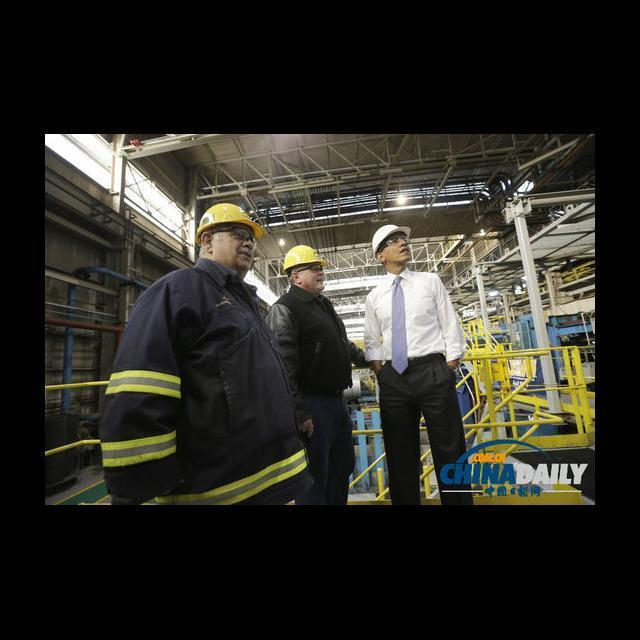Capacete: (196, 203, 265, 243), (283, 245, 327, 272), (372, 224, 410, 255)
Pessoa: (100, 203, 311, 503), (364, 224, 472, 504), (266, 245, 367, 504)
